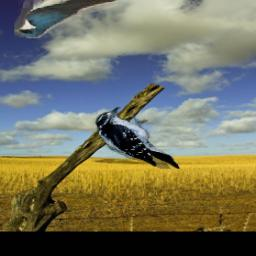Swallow: (14, 0, 118, 38)
Woodpecker: (94, 108, 181, 170)
